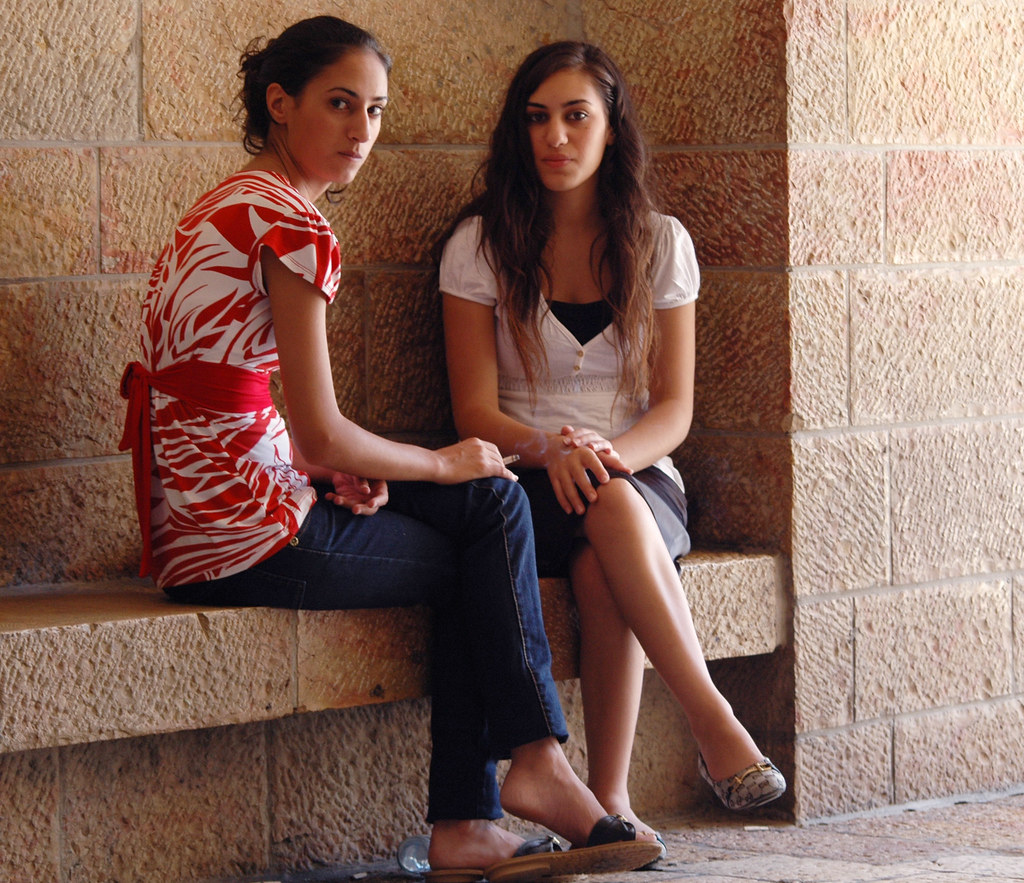Person: (115, 7, 666, 883), (426, 29, 813, 850)
